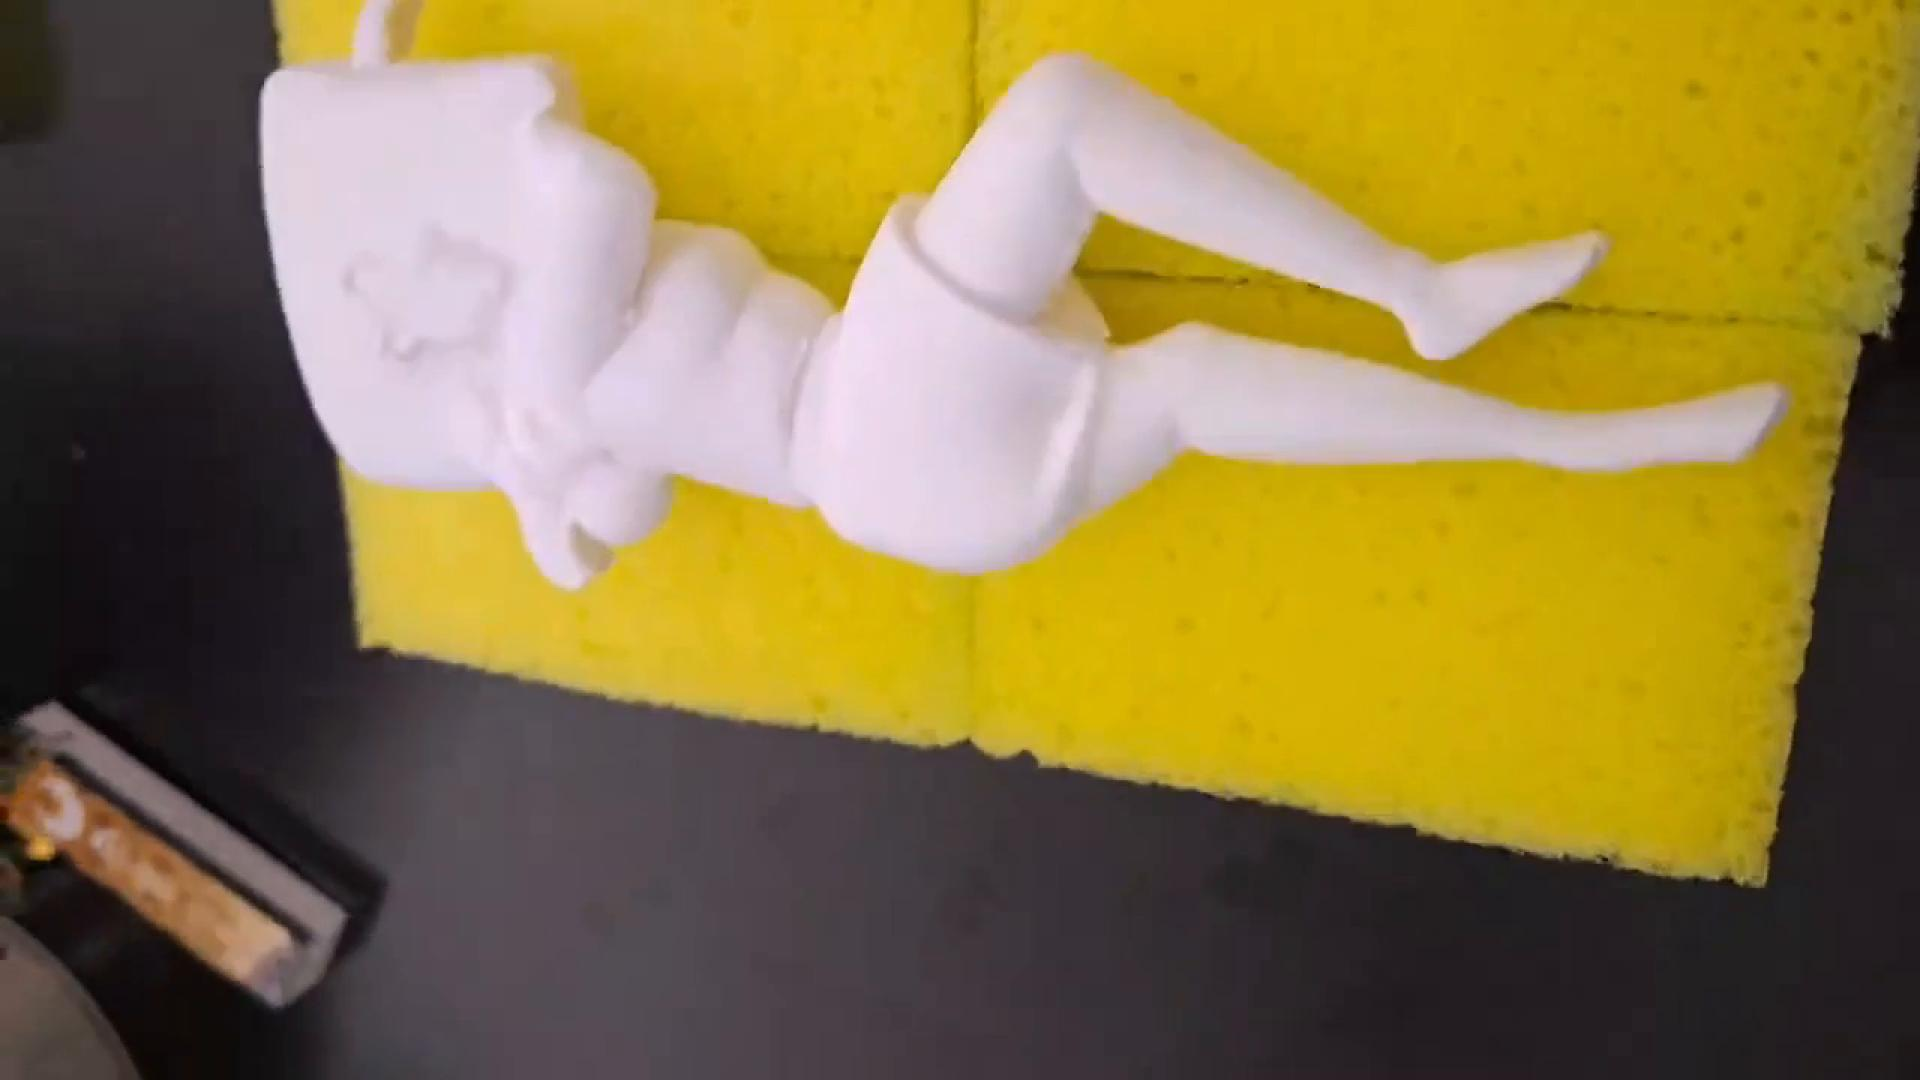Good-style: (181, 0, 1920, 640)
